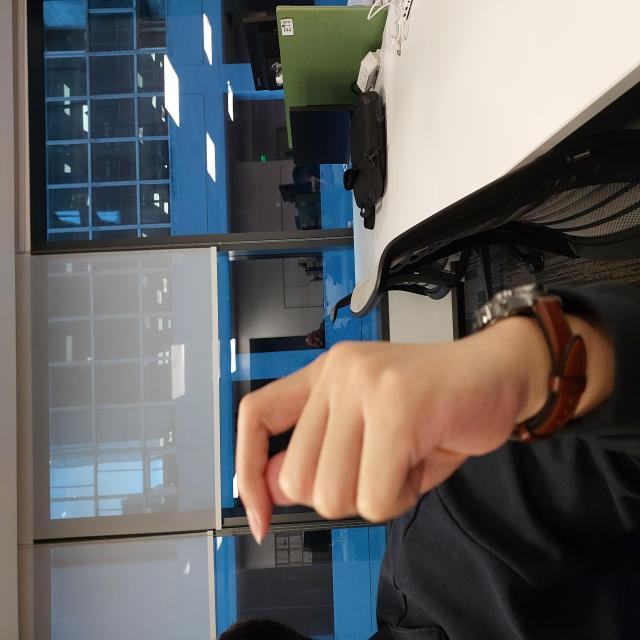T: (97, 235, 299, 516)
